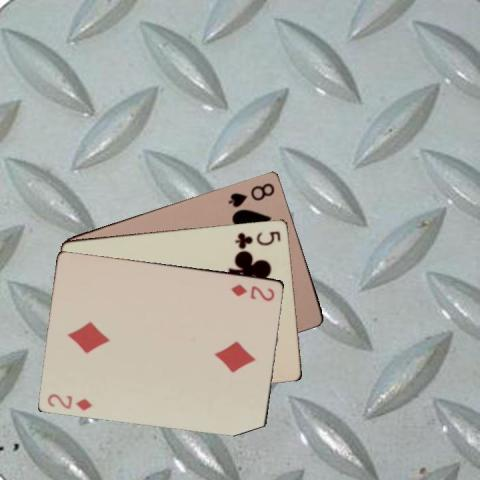2d: (229, 281, 276, 302), (45, 391, 94, 411)
5c: (233, 228, 282, 248)
8s: (225, 179, 277, 209)
